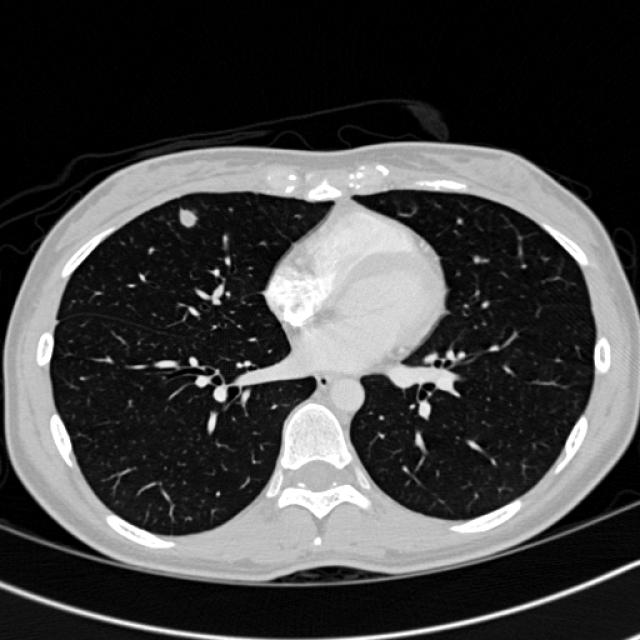nodule: (165, 196, 205, 236)
